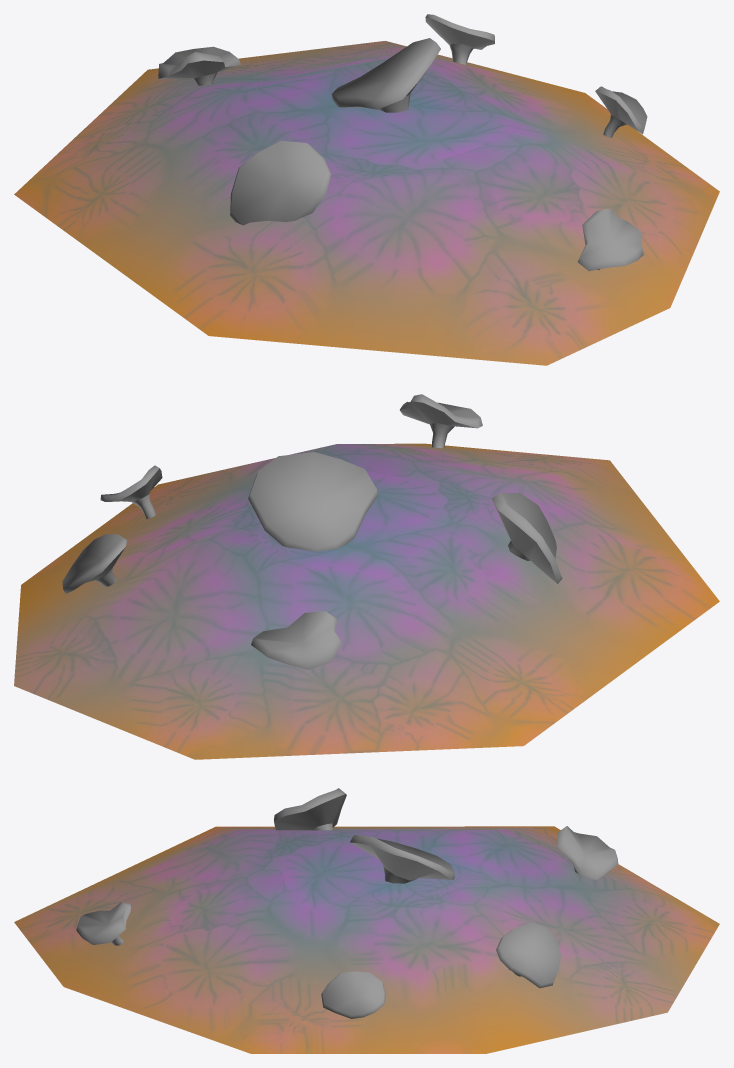
The model's file is Spaceplant_Undergrowth_A_Cluster_B.fbx.
The picture shows the model from 3 angles, top to bottom: view 1: azimuth 30°, elevation 25°; view 2: azimuth 150°, elevation 25°; view 3: azimuth 270°, elevation 25°; orthographic projection. The views are drawn at different scales.
Visible parts, largest first — view 1: Geometry_Spaceplant_Undergrowth_A_Cluster_B_Base_LOD00, Geometry_Spaceplant_Undergrowth_A_Cluster_B_Detail_LOD00; view 2: Geometry_Spaceplant_Undergrowth_A_Cluster_B_Base_LOD00, Geometry_Spaceplant_Undergrowth_A_Cluster_B_Detail_LOD00; view 3: Geometry_Spaceplant_Undergrowth_A_Cluster_B_Base_LOD00, Geometry_Spaceplant_Undergrowth_A_Cluster_B_Detail_LOD00.
Boxes of the visible parts, left/top/right/bottom form: Geometry_Spaceplant_Undergrowth_A_Cluster_B_Base_LOD00: left=14, top=41, right=719, bottom=365; Geometry_Spaceplant_Undergrowth_A_Cluster_B_Detail_LOD00: left=158, top=14, right=647, bottom=271; Geometry_Spaceplant_Undergrowth_A_Cluster_B_Base_LOD00: left=14, top=443, right=719, bottom=759; Geometry_Spaceplant_Undergrowth_A_Cluster_B_Detail_LOD00: left=62, top=394, right=562, bottom=669; Geometry_Spaceplant_Undergrowth_A_Cluster_B_Base_LOD00: left=14, top=826, right=719, bottom=1053; Geometry_Spaceplant_Undergrowth_A_Cluster_B_Detail_LOD00: left=76, top=788, right=618, bottom=1018.
Size of what is drawn, in the model's own units: 201 by 49.84 by 264.
